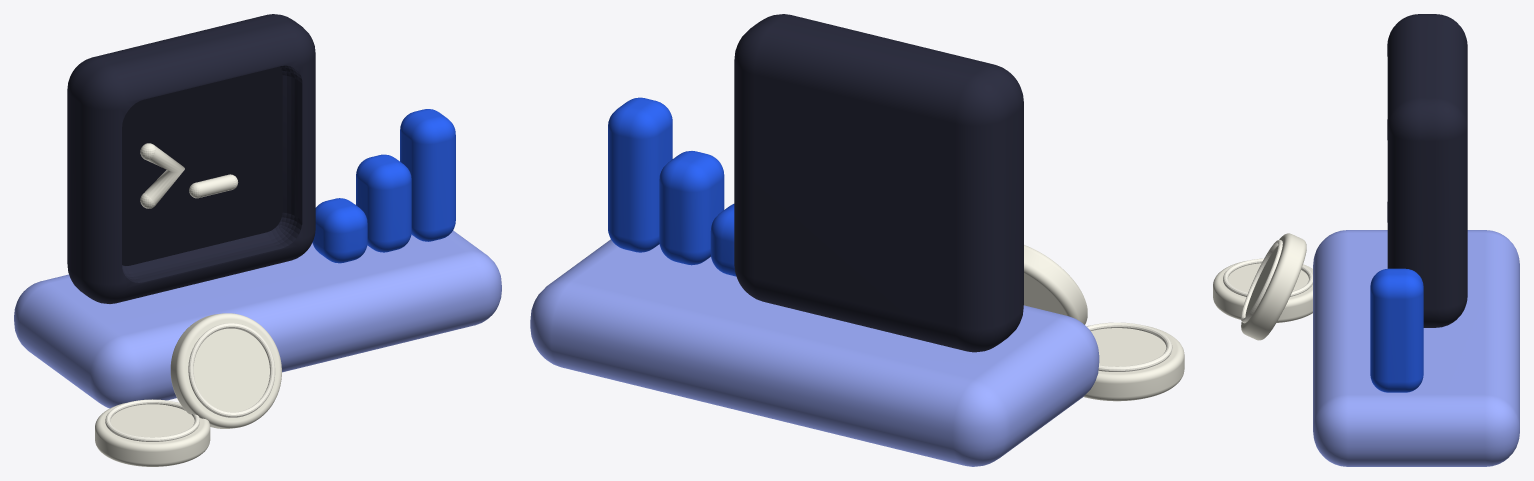
File: aero-scene.glb
3 views of the same model, side by side, from view 1: azimuth 30°, elevation 25°; view 2: azimuth 150°, elevation 25°; view 3: azimuth 270°, elevation 25° (orthographic). The views are drawn at different scales.
Parts seen in each view (by area): view 1: Rounded display plinth, Monitor body, Recessed display, Front upright coin, Chart column 2, Flat coin, Chart column 1, Chart column 0, Torus, Torus.001, Prompt chevron, Prompt cursor; view 2: Monitor body, Rounded display plinth, Chart column 2, Chart column 1, Flat coin, Front upright coin, Chart column 0, Torus.001; view 3: Rounded display plinth, Monitor body, Chart column 2, Front upright coin, Flat coin, Torus, Torus.001.
Boxes of the visible parts, x1,y1,x2,y2 form: Rounded display plinth: [14, 204, 501, 408]; Monitor body: [67, 14, 315, 303]; Recessed display: [122, 66, 282, 265]; Front upright coin: [170, 313, 281, 428]; Chart column 2: [400, 109, 455, 241]; Flat coin: [95, 402, 210, 466]; Chart column 1: [356, 154, 411, 252]; Chart column 0: [312, 198, 367, 263]; Torus: [188, 323, 275, 417]; Torus.001: [105, 399, 199, 441]; Prompt chevron: [143, 146, 184, 204]; Prompt cursor: [196, 174, 233, 197]; Monitor body: [734, 14, 1023, 352]; Rounded display plinth: [530, 239, 1099, 466]; Chart column 2: [608, 97, 672, 252]; Chart column 1: [659, 151, 724, 265]; Flat coin: [1083, 325, 1184, 401]; Front upright coin: [1024, 245, 1087, 324]; Chart column 0: [710, 204, 736, 276]; Torus.001: [1086, 322, 1172, 371]; Rounded display plinth: [1313, 230, 1519, 466]; Monitor body: [1387, 14, 1467, 327]; Chart column 2: [1370, 268, 1423, 392]; Front upright coin: [1241, 233, 1306, 340]; Flat coin: [1213, 261, 1312, 322]; Torus: [1241, 240, 1282, 323]; Torus.001: [1223, 258, 1312, 296].
Size of the model in its own units: 4.45 by 3.05 by 2.82.
